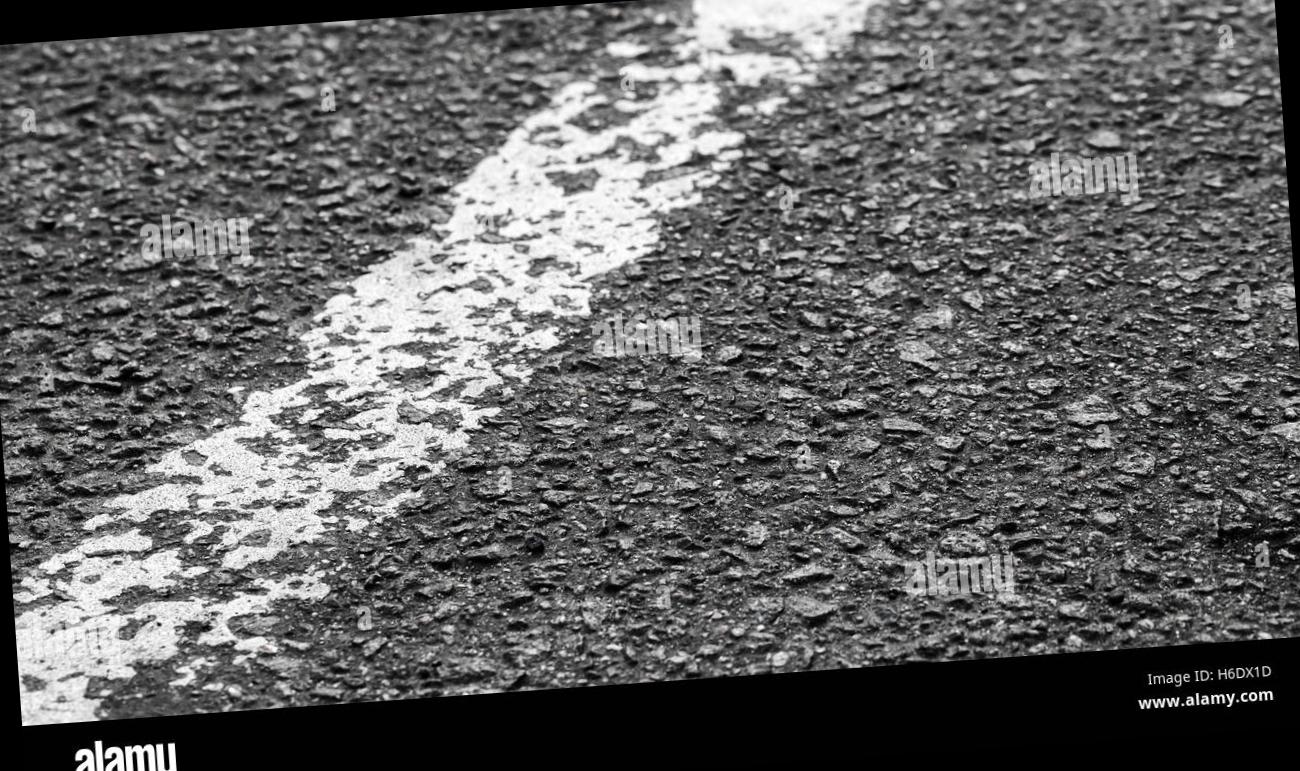faded_road_lines: (0, 0, 948, 726)
